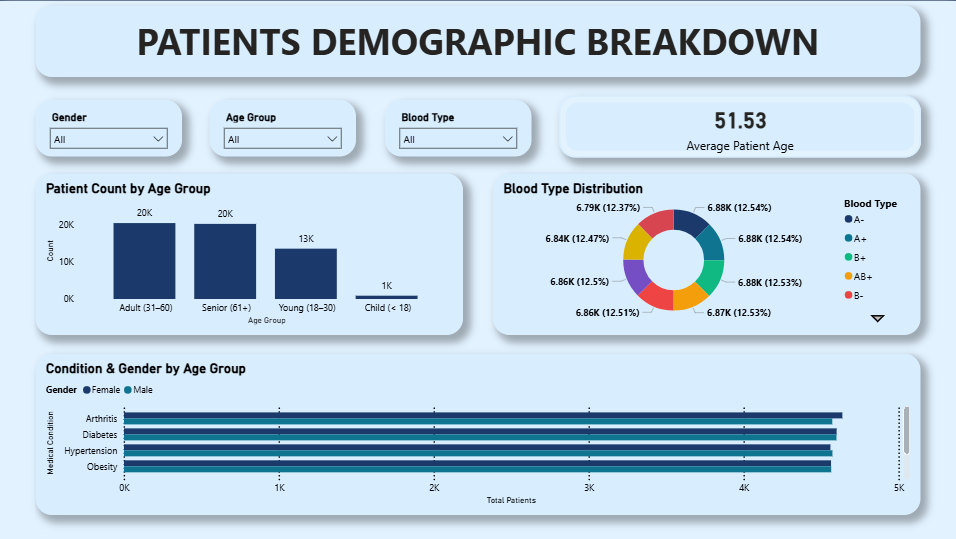

Layout of this report page (visuals, bound fields, positions):
{"tool":"powerbi","page":{"name":"Page 2","canvas":[1280,720],"ordinal":1},"visuals":[{"type":"shape","box":[747.5,125,482.5,82.5],"z":0},{"type":"textbox","box":[50,5,1180,95],"z":1000},{"type":"clusteredColumnChart","title":"Patient Count by Age Group","fields":{"Category":["healthcare_final_clean.age_group"],"Y":["healthcare_final_clean.Total Patients"]},"box":[50,230,570,215],"z":2000},{"type":"clusteredBarChart","title":"Condition & Gender by Age Group","fields":{"Category":["healthcare_final_clean.medical_condition"],"Y":["healthcare_final_clean.Total Patients"],"Series":["healthcare_final_clean.gender"]},"box":[50,470,1180,215],"z":3000},{"type":"donutChart","title":"Blood Type Distribution","fields":{"Y":["healthcare_final_clean.Total Patients"],"Category":["healthcare_final_clean.blood_type"]},"box":[660,230,570,215],"z":4000},{"type":"slicer","fields":{"Values":["healthcare_final_clean.gender"]},"box":[50,132,195,75],"z":5000},{"type":"slicer","fields":{"Values":["healthcare_final_clean.blood_type"]},"box":[515,132,195,75],"z":6000},{"type":"slicer","fields":{"Values":["healthcare_final_clean.age_group"]},"box":[282.5,132,195,75],"z":7000},{"type":"card","fields":{"Values":["Avg(healthcare_final_clean.age)"]},"box":[867.5,125,242.5,82.5],"z":8000}]}

Visuals, with their boxes in screenshot pixels (x1, y1, x2, y2), scaled from the page's 1280x720 canvas onto the 956x539 screenshot:
shape: 558, 94, 919, 155
textbox: 37, 4, 919, 75
"Patient Count by Age Group" clusteredColumnChart: 37, 172, 463, 333
"Condition & Gender by Age Group" clusteredBarChart: 37, 352, 919, 513
"Blood Type Distribution" donutChart: 493, 172, 919, 333
slicer - healthcare_final_clean.gender: 37, 99, 183, 155
slicer - healthcare_final_clean.blood_type: 385, 99, 530, 155
slicer - healthcare_final_clean.age_group: 211, 99, 357, 155
card - Avg(healthcare_final_clean.age): 648, 94, 829, 155
